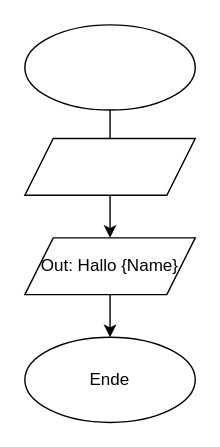
The diagram is 220 pixels wide and 447 high, and some of its shapes have lost their labels. Here are the shapes that lost their labels. From the top down, the centre of each, then its label:
the point at 109,66: Start
the point at 109,166: IN: Wie heisst du?
